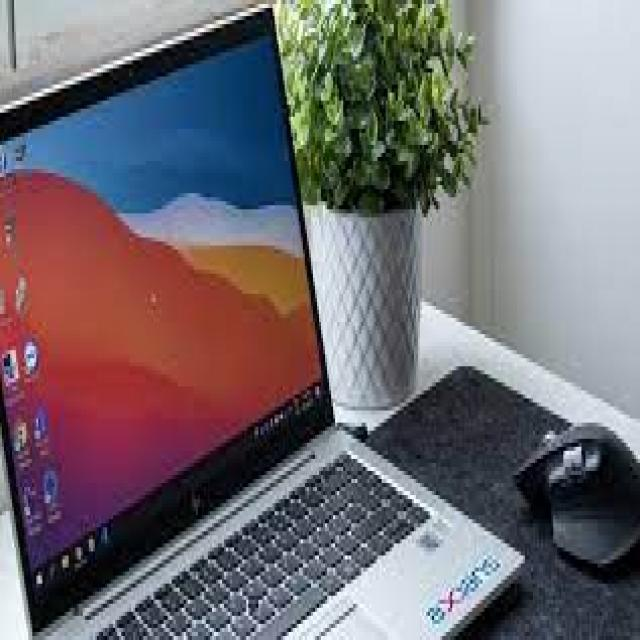others: (2, 0, 640, 564)
